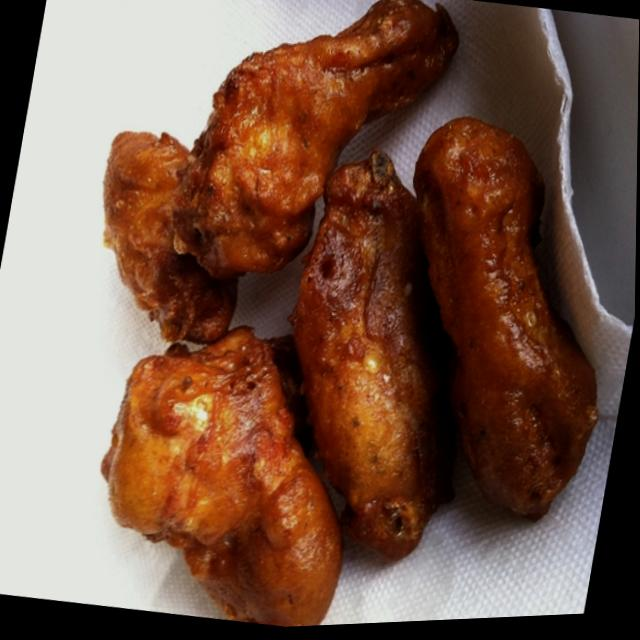鸡肉料理 含炸鸡: (18, 0, 640, 639)
